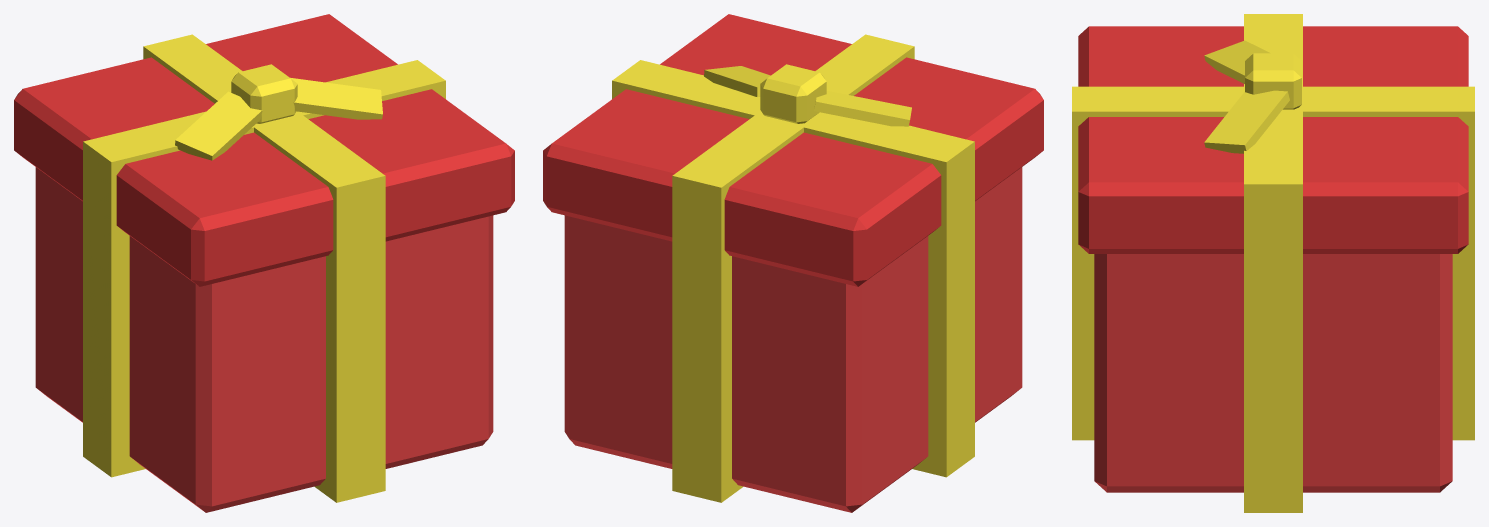
File: PresentBox.fbx
3 views of the same model, side by side, from view 1: azimuth 30°, elevation 25°; view 2: azimuth 150°, elevation 25°; view 3: azimuth 270°, elevation 25° (orthographic). The views are drawn at different scales.
Parts seen in each view (by area): view 1: PresentBox; view 2: PresentBox; view 3: PresentBox.
Boxes of the visible parts, x1,y1,x2,y2 form: PresentBox: (14, 14, 514, 512); PresentBox: (543, 14, 1043, 512); PresentBox: (1072, 14, 1474, 512).
Size of the model in its own units: 0.382 by 0.383 by 0.382.
